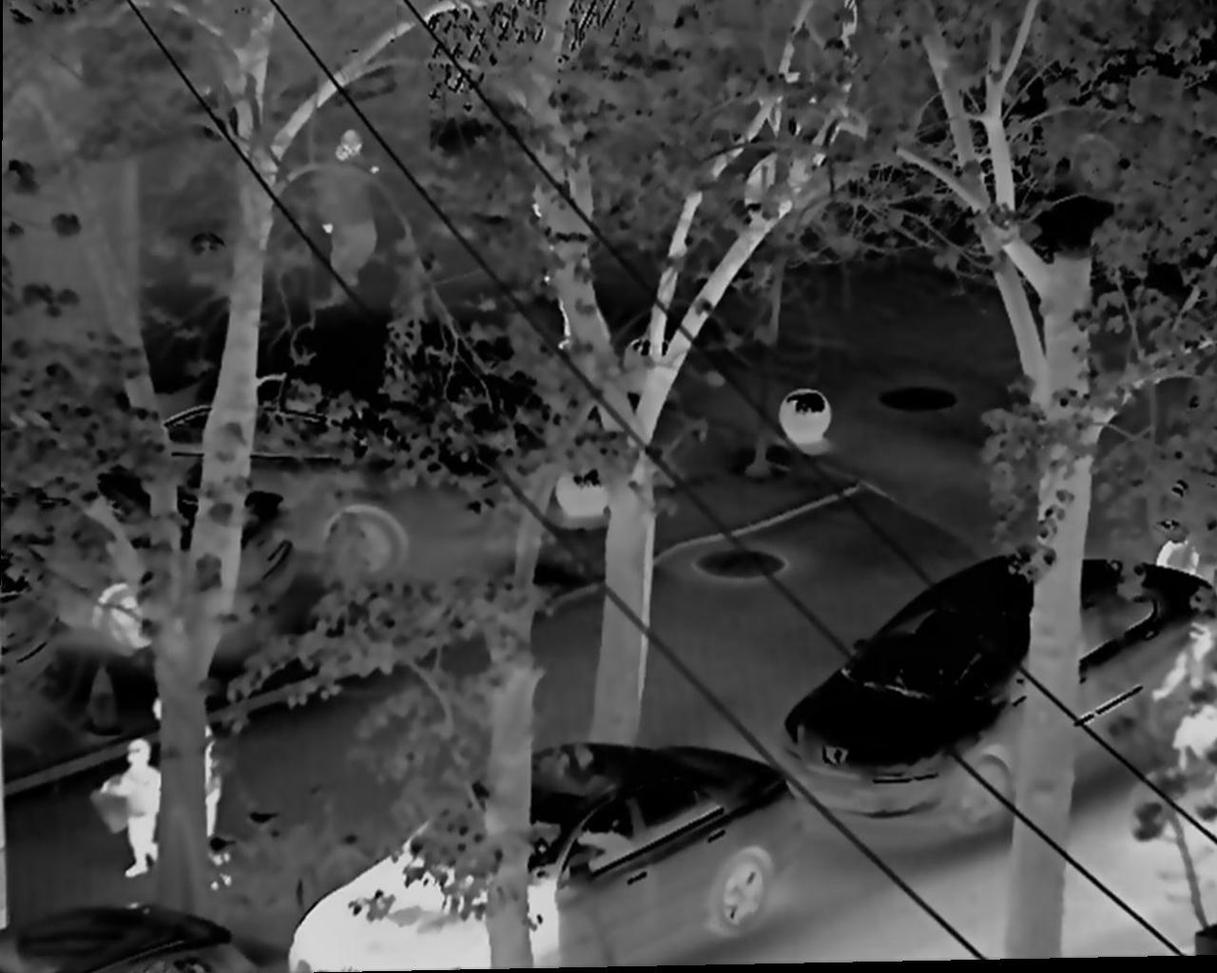person: (145, 693, 232, 884), (313, 128, 394, 301), (88, 736, 166, 883), (1156, 606, 1217, 785)
